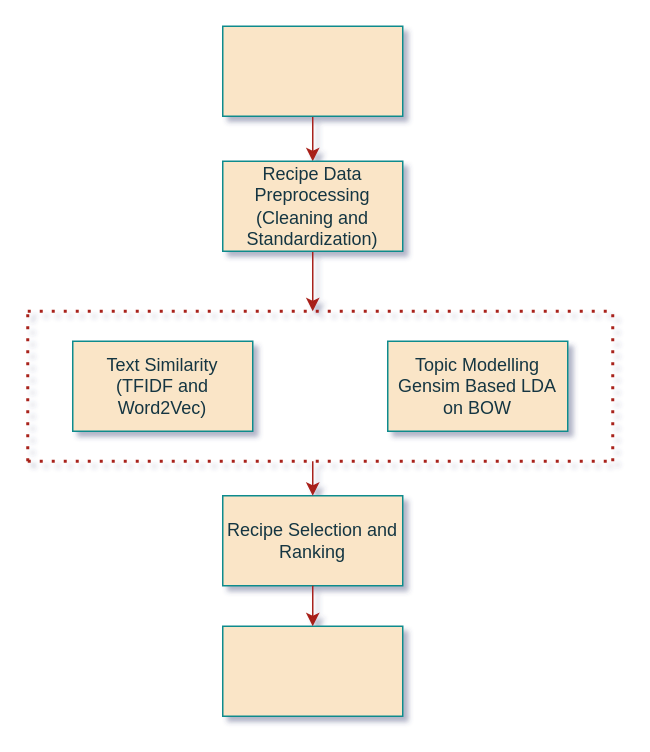
Some shapes in this 650 by 752 pixel diagram are drawn without their labels. Here are the shapes that lost their labels. From the top down, the centre of each, then its label:
the point at 312,70: User Interface
the point at 312,670: Recommendation to User
